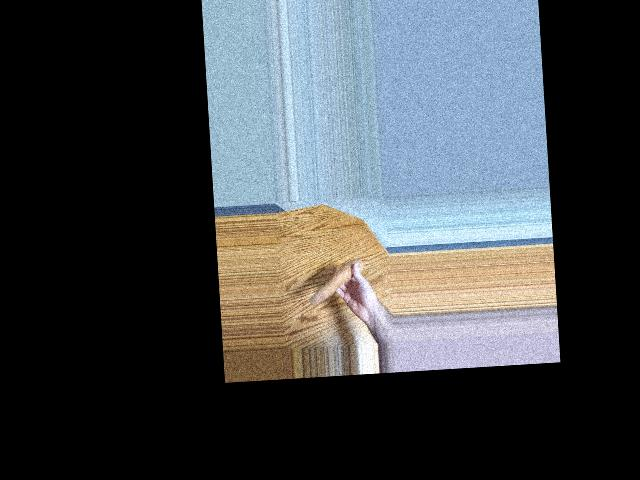sweet_potato: (308, 261, 365, 306)
